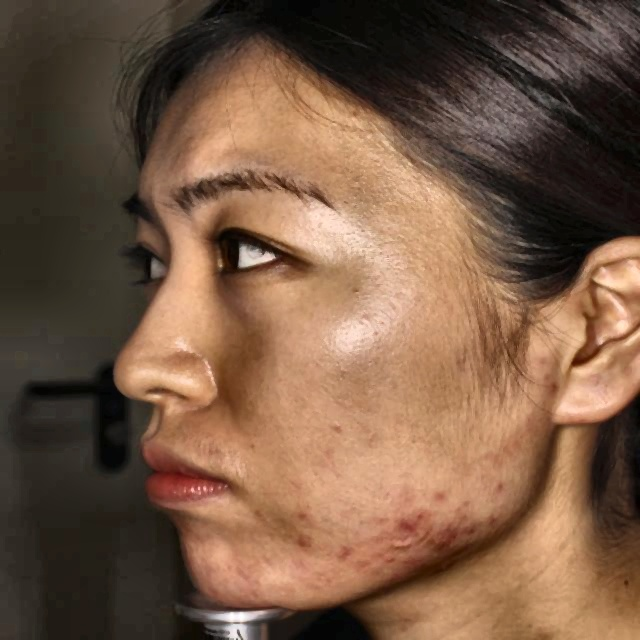pustule: (393, 502, 432, 532), (429, 484, 459, 514), (434, 523, 454, 559), (459, 513, 481, 543), (332, 543, 354, 572), (292, 529, 311, 559), (353, 550, 374, 574)
